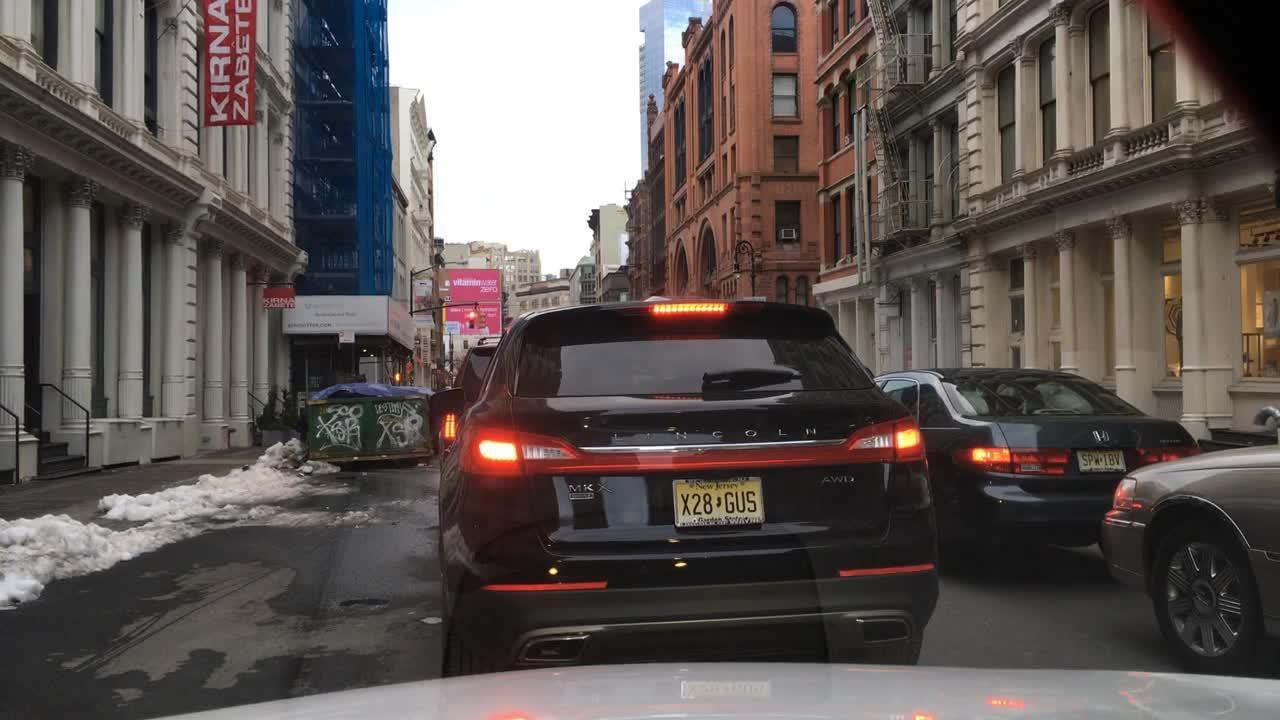Honda: (1086, 422, 1116, 447)
lincoln: (600, 418, 850, 448)
